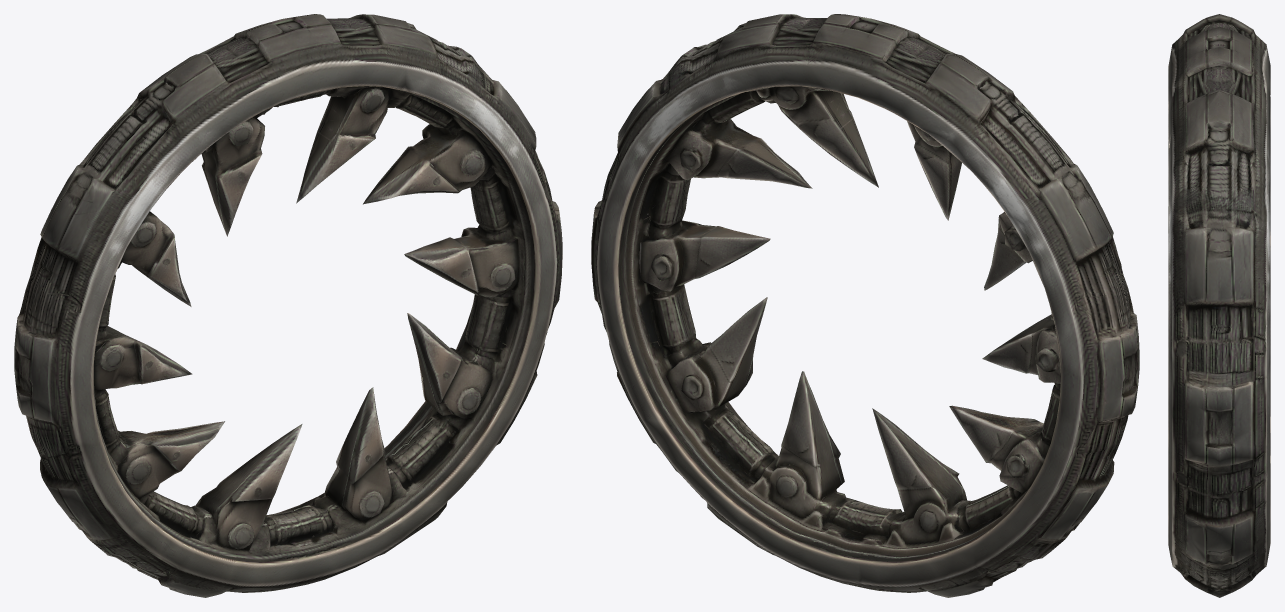
Rendered from DebarkerRing.glb.
3 views of the same model, side by side, from view 1: azimuth 30°, elevation 25°; view 2: azimuth 150°, elevation 25°; view 3: azimuth 270°, elevation 25° (orthographic). The views are drawn at different scales.
Parts seen in each view (by area): view 1: Mesh_0; view 2: Mesh_0; view 3: Mesh_0.
Boxes of the visible parts, x1,y1,x2,y2 form: Mesh_0: (14,14,562,597); Mesh_0: (591,14,1139,597); Mesh_0: (1168,14,1270,597).
Size of the model in its own units: 1.91 by 1.91 by 0.3386.
Materials: 1 (1 with a texture image).
